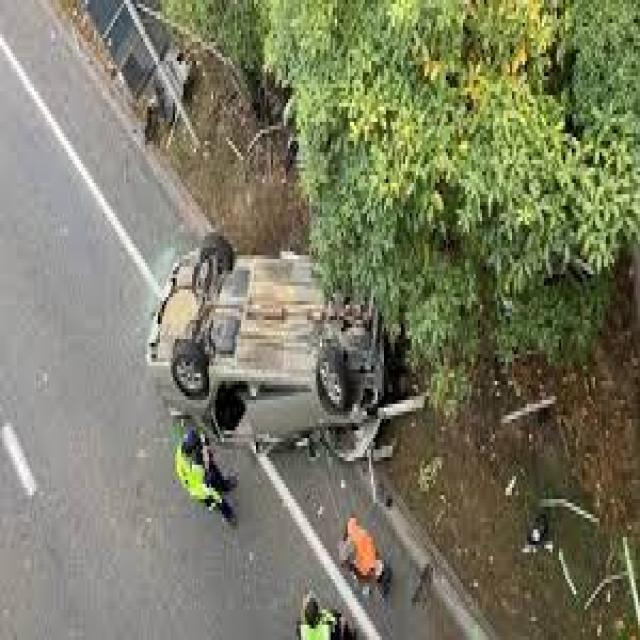accident: (137, 209, 416, 467)
